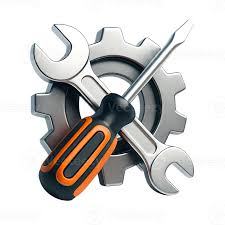Screwdriver: (17, 4, 221, 217)
Wrench: (13, 6, 218, 221)
